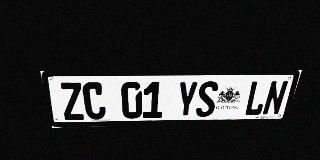0: (121, 82, 142, 119)
1: (143, 82, 163, 118)
C: (81, 82, 106, 120)
L: (243, 81, 270, 116)
N: (261, 80, 289, 115)
S: (195, 81, 219, 117)
Y: (176, 81, 198, 117)
Z: (58, 82, 85, 120)
